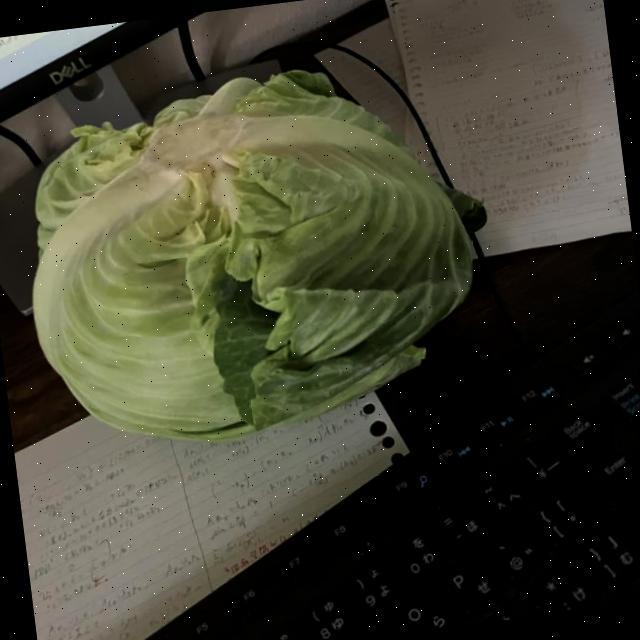cabbage: (4, 48, 498, 466)
